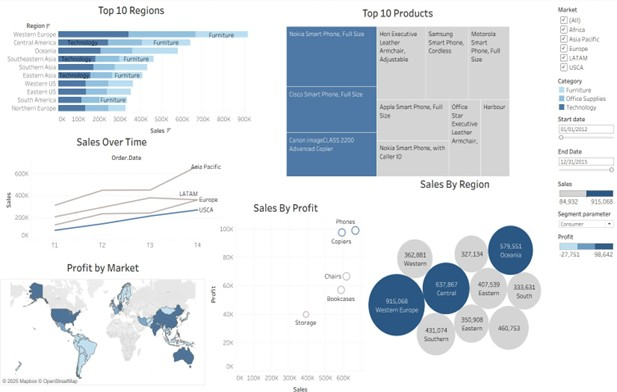

The page's visual inventory and layout, read from the dashboard file:
{"tool":"tableau","page":{"name":"Dashboard","canvas":[1000,1000],"units":"permille","ordinal":0},"visuals":[{"type":"worksheet","title":"Top 10 Regions","mark":"Automatic","rows":["Region"],"cols":["Sales"],"box":[9.1,2.1,406.2,360.4]},{"type":"worksheet","title":"Top 10 Products","mark":"Automatic","box":[461.1,10.3,389.3,436.7]},{"type":"filter","title":"Top 10 Regions","param":"[federated.197ok881fwkdbl1g8i9xt0qgekpv].[none:Market:nk]","box":[857.3,10.5,135.9,198.7]},{"type":"legend","title":"Top 10 Regions","param":"[federated.197ok881fwkdbl1g8i9xt0qgekpv].[none:Category:nk]","box":[857.3,209.2,135.9,122.4]},{"type":"parameter","param":"[Parameters].[Parameter 1]","box":[857.3,331.6,135.9,104]},{"type":"worksheet","title":"Sales Over Time","mark":"Automatic","rows":["Sales"],"cols":["Order.Date"],"box":[3,332.7,354.9,293.5]},{"type":"worksheet","title":"Sales By Region","mark":"Circle","box":[595.1,393.4,279.4,546.9]},{"type":"parameter","param":"[Parameters].[Start date (copy)_1774136801383612418]","box":[857.3,435.5,135.9,104]},{"type":"worksheet","title":"Sales By Profit","mark":"Automatic","rows":["Profit"],"cols":["Sales"],"box":[333.7,498.5,255.9,496.4]},{"type":"legend","title":"Sales By Region","param":"[federated.197ok881fwkdbl1g8i9xt0qgekpv].[sum:Sales:qk]","box":[857.3,539.5,135.9,96.1]},{"type":"parameter","param":"[Parameters].[Parameter 2]","box":[857.3,635.6,135.9,73.7]},{"type":"worksheet","title":"Profit by Market","mark":"Automatic","box":[0.6,648.8,331.3,318.2]},{"type":"legend","title":"Profit by Market","param":"[federated.197ok881fwkdbl1g8i9xt0qgekpv].[sum:Profit:qk]","box":[857.3,709.2,135.9,96.1]}]}

Visuals, with their boxes on the dashboard's canvas, which has no fixed pixel size, in thousandths of its width and height (x1, y1, x2, y2). These are canvas units, not pixel positions in the 617x392 screenshot, which may show the page scaled, cropped or inside an application window:
"Top 10 Regions" worksheet: 9 2 415 362
"Top 10 Products" worksheet: 461 10 850 447
"Top 10 Regions" filter: 857 10 993 209
"Top 10 Regions" legend: 857 209 993 332
parameter: 857 332 993 436
"Sales Over Time" worksheet: 3 333 358 626
"Sales By Region" worksheet (Circle marks): 595 393 874 940
parameter: 857 436 993 540
"Sales By Profit" worksheet: 334 498 590 995
"Sales By Region" legend: 857 540 993 636
parameter: 857 636 993 709
"Profit by Market" worksheet: 1 649 332 967
"Profit by Market" legend: 857 709 993 805
